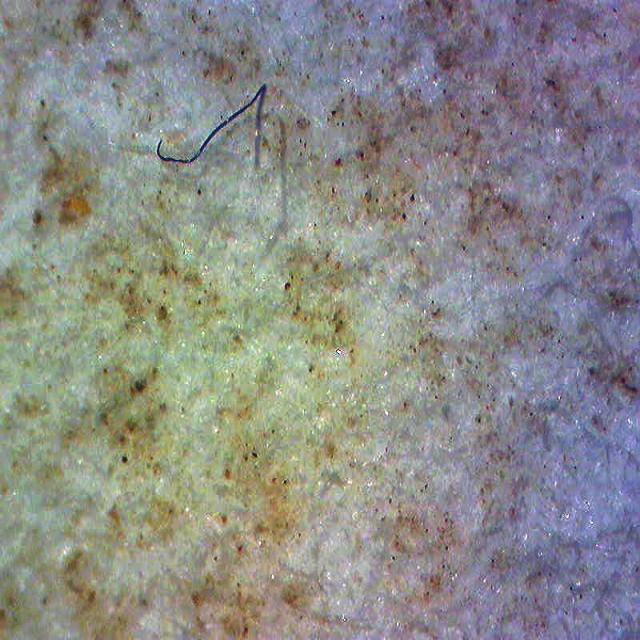microplastic: (155, 74, 267, 171)
